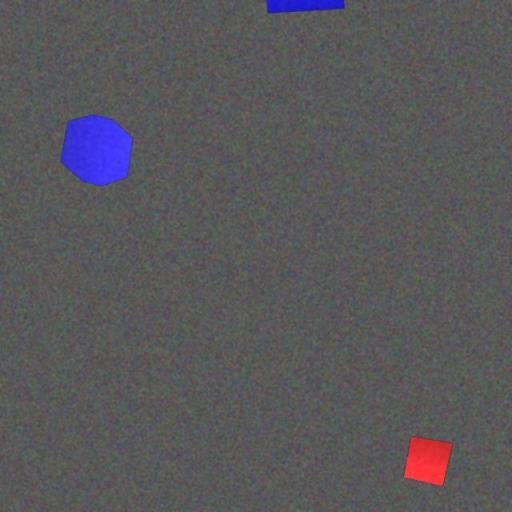RED_SQUARE: (403, 435, 454, 487)
